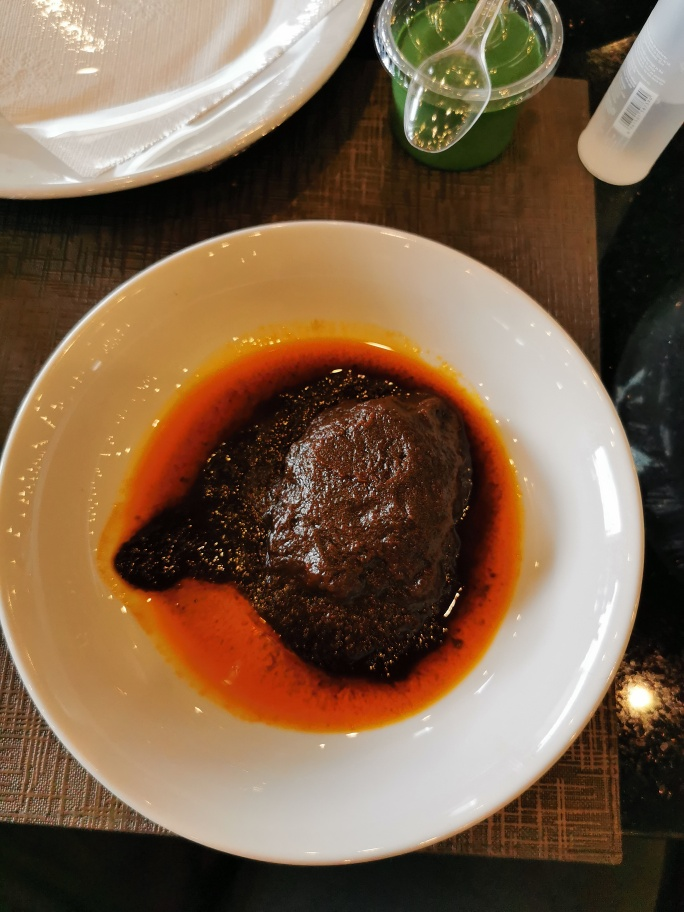rendang: (158, 338, 480, 686)
